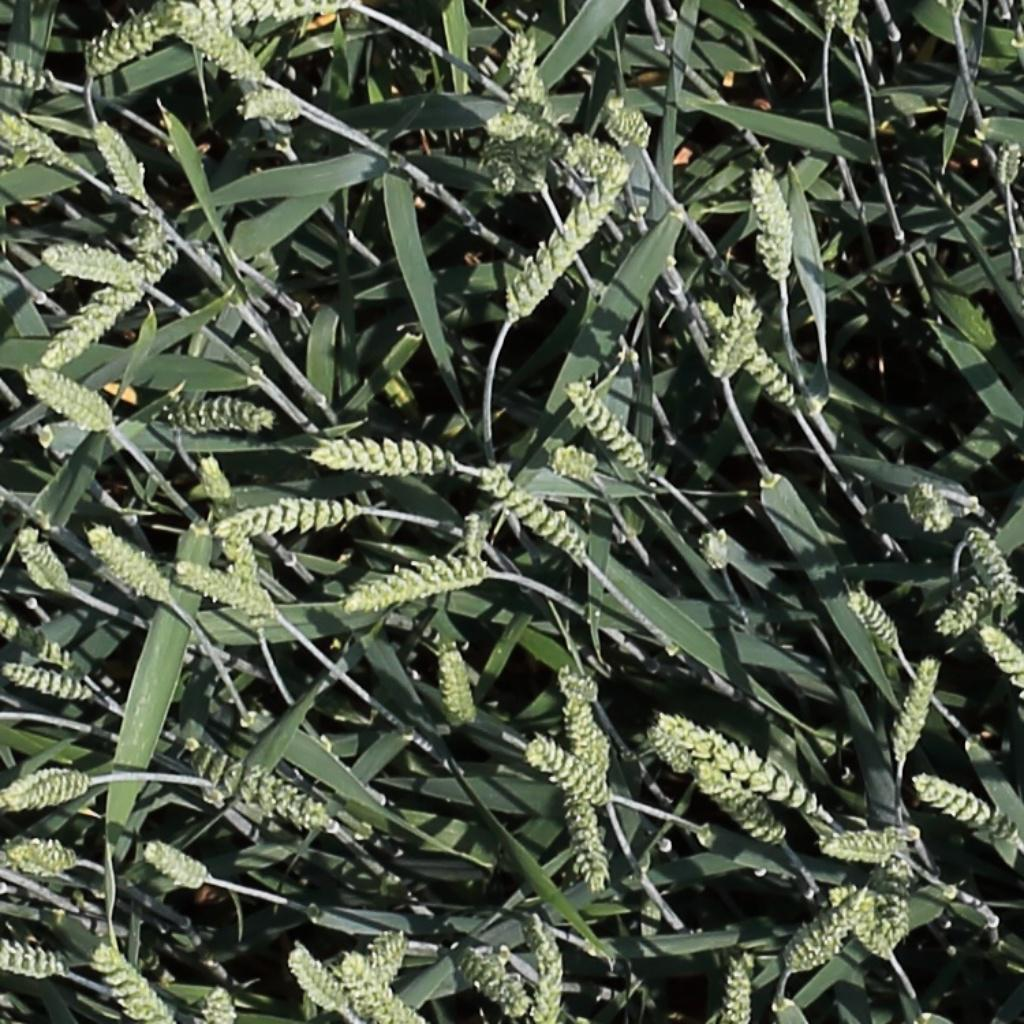0-0: (494, 146, 634, 315), (39, 216, 179, 367), (668, 712, 828, 816), (175, 737, 339, 836), (482, 460, 594, 554), (464, 104, 578, 195), (565, 375, 655, 477), (785, 887, 876, 976), (697, 764, 787, 849), (509, 35, 559, 187), (914, 776, 1021, 846), (339, 955, 443, 1024), (351, 556, 497, 604), (312, 434, 458, 482), (163, 15, 256, 86), (88, 527, 172, 603), (855, 859, 922, 953), (91, 943, 170, 1022), (83, 10, 178, 73), (892, 653, 944, 767), (962, 522, 1021, 617), (174, 563, 275, 618), (178, 0, 341, 34), (90, 111, 150, 203), (527, 742, 610, 808), (458, 947, 532, 1021), (23, 368, 111, 430), (735, 333, 802, 412), (0, 602, 75, 671), (567, 791, 614, 901), (285, 944, 354, 1018), (709, 292, 763, 383), (753, 162, 794, 281), (0, 109, 80, 169), (846, 584, 907, 656), (0, 762, 95, 808), (523, 916, 562, 1024), (222, 503, 357, 533), (13, 528, 72, 596), (817, 826, 914, 866), (563, 692, 607, 779), (475, 130, 529, 199), (976, 622, 1024, 693), (0, 664, 94, 700), (370, 918, 422, 983), (441, 641, 477, 734), (0, 829, 78, 870), (143, 845, 211, 890), (0, 929, 64, 976), (40, 249, 133, 281), (644, 722, 696, 779), (193, 447, 237, 514), (165, 406, 271, 430), (611, 109, 657, 160), (696, 290, 734, 350), (0, 43, 50, 88), (913, 476, 954, 529), (726, 947, 753, 1024), (237, 85, 302, 114), (700, 524, 733, 578), (993, 131, 1022, 191), (569, 135, 606, 180), (557, 669, 602, 705), (462, 503, 486, 569), (550, 450, 599, 479), (204, 978, 234, 1024), (835, 0, 864, 43), (816, 0, 837, 31)
